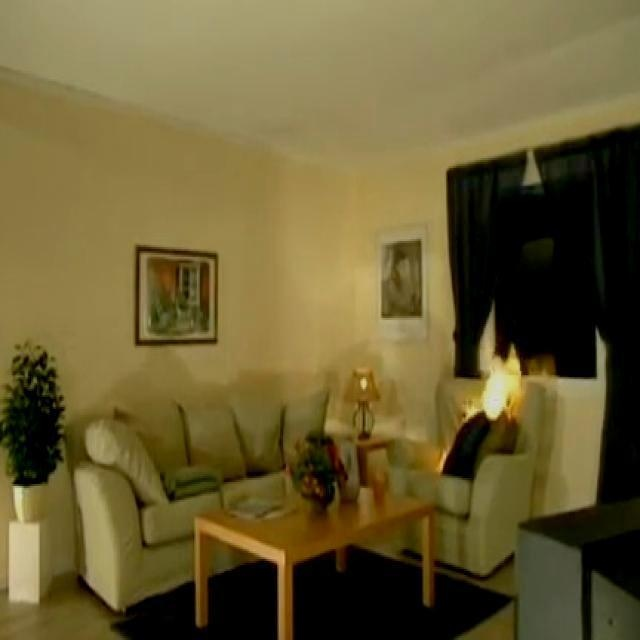fire: (423, 332, 543, 511)
